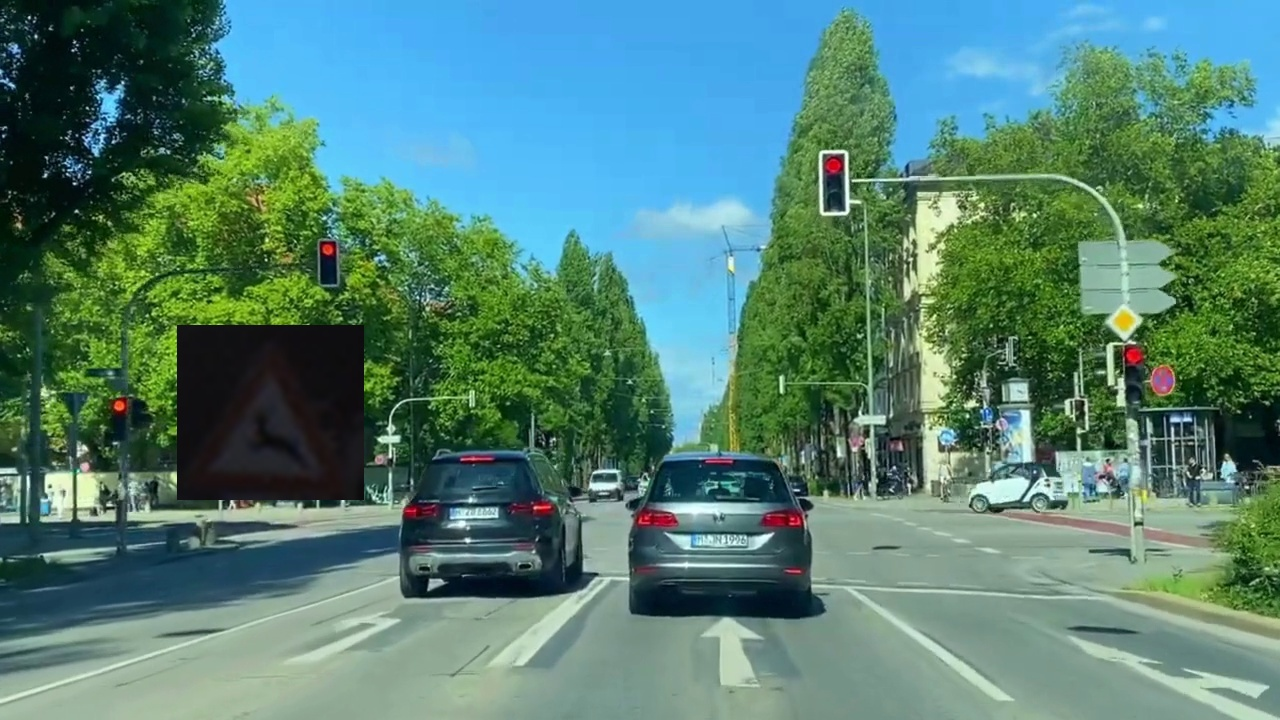Wild animals: (177, 325, 364, 500)
